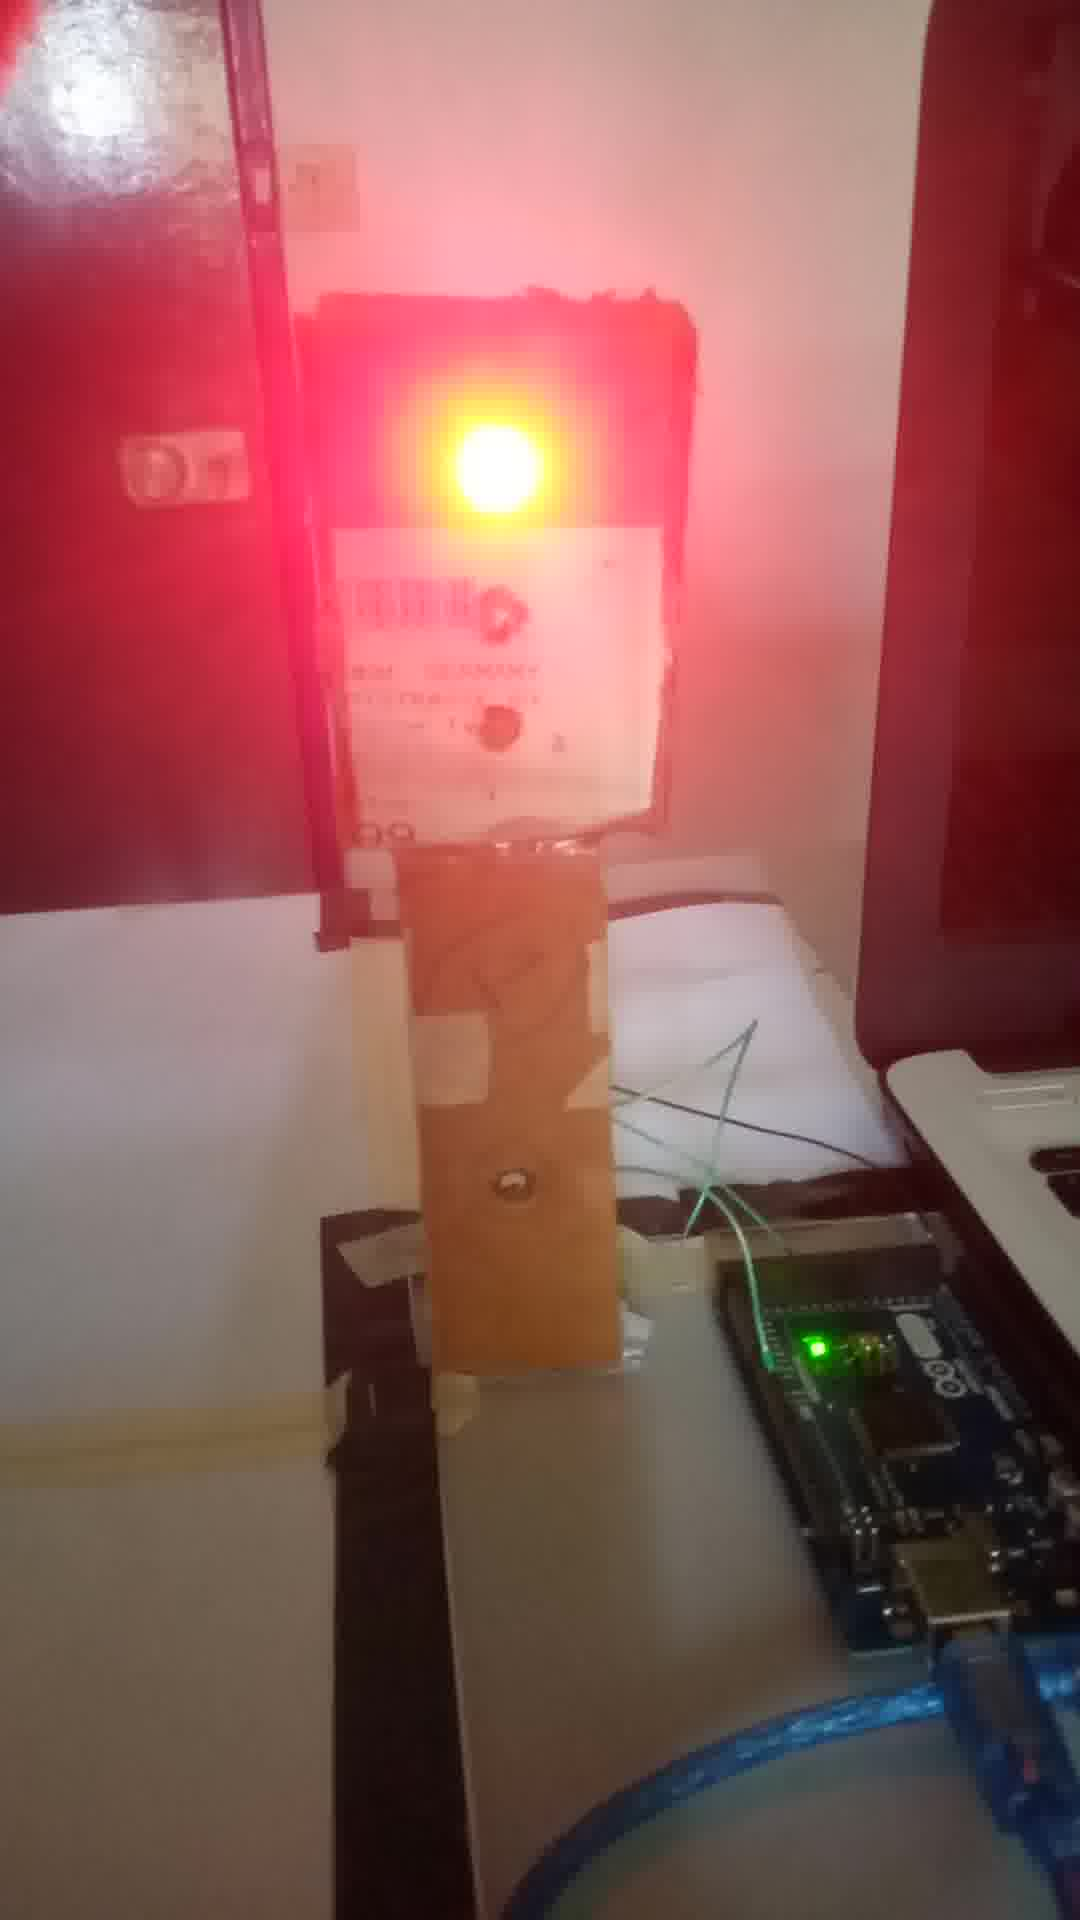red: (307, 303, 675, 833)
